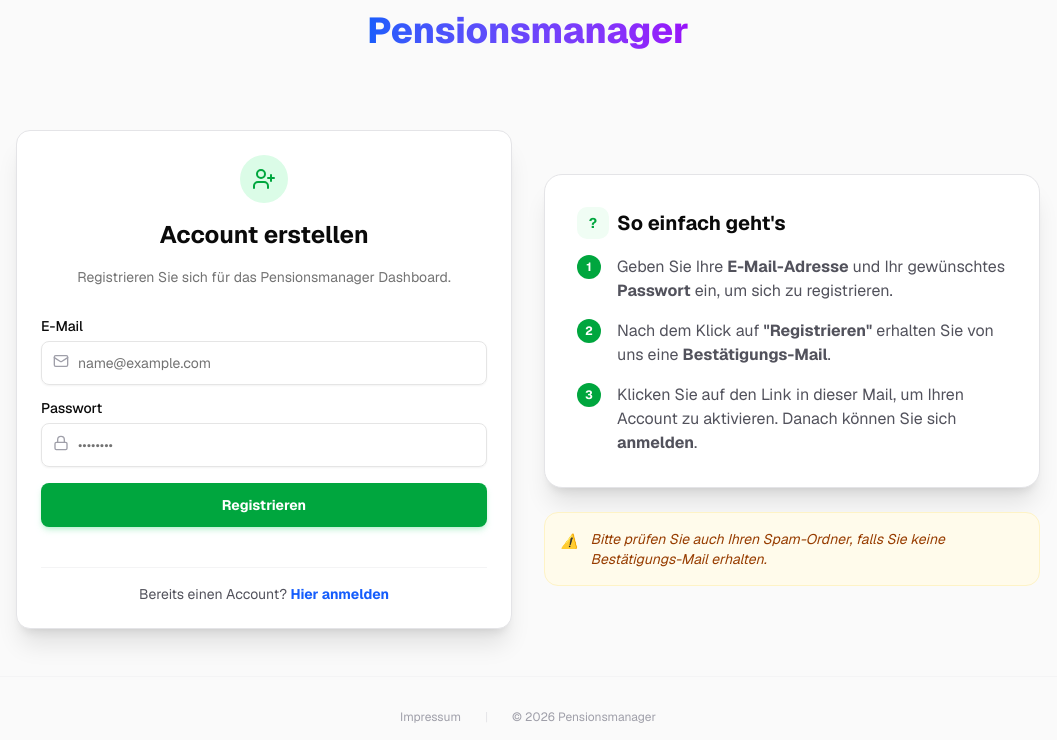
Test: RegisterPage › shows error message if user already exists (empty identities)
// Fill in the form
Type "test@example.com" into the field with placeholder "name@example.com" at [264, 363], box [41, 341, 487, 385]
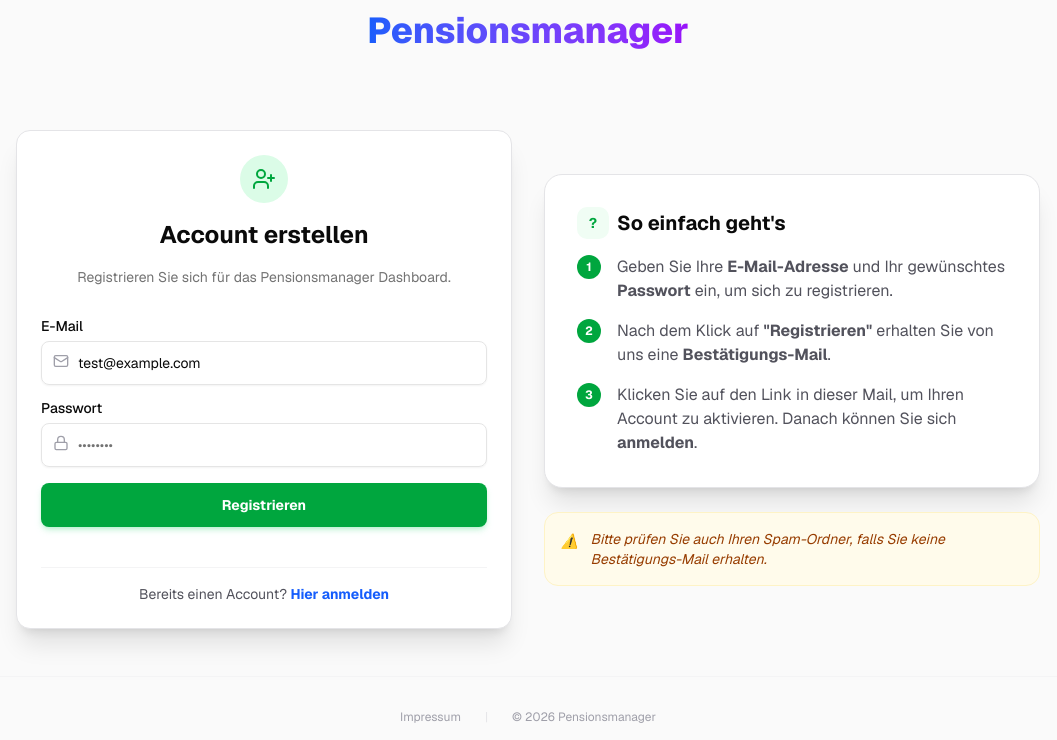
Type "password123" into the password field with placeholder "••••••••" at [264, 445], box [41, 423, 487, 467]
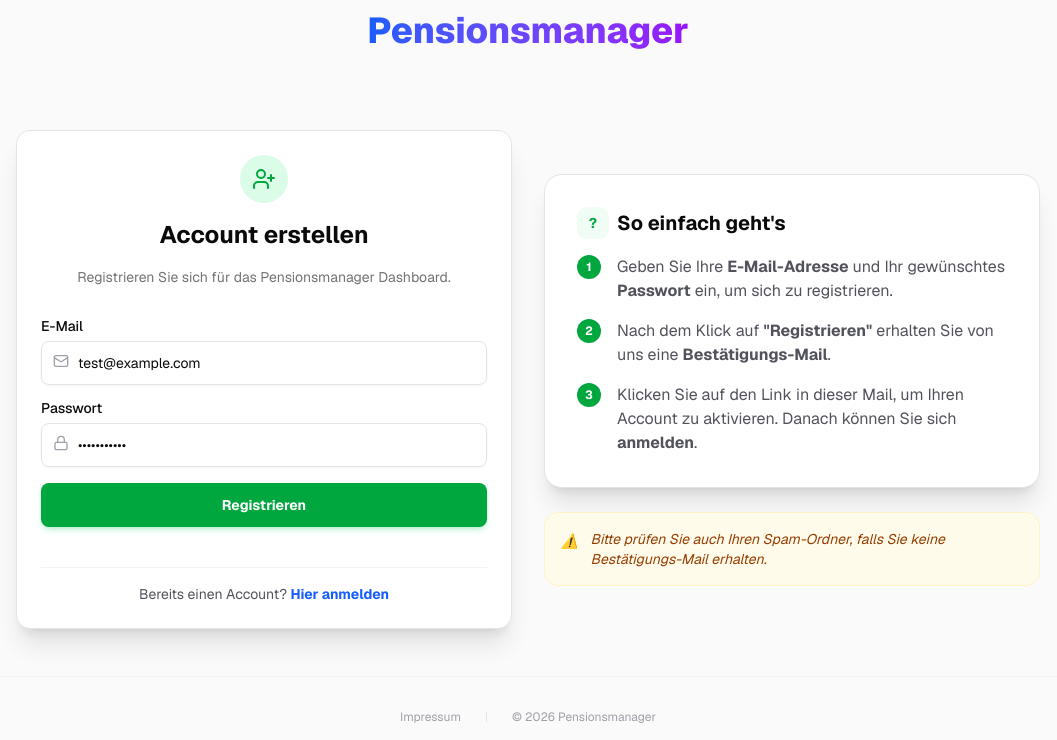
// Submit the form
Click the button "Registrieren" at [264, 505], box [41, 483, 487, 527]
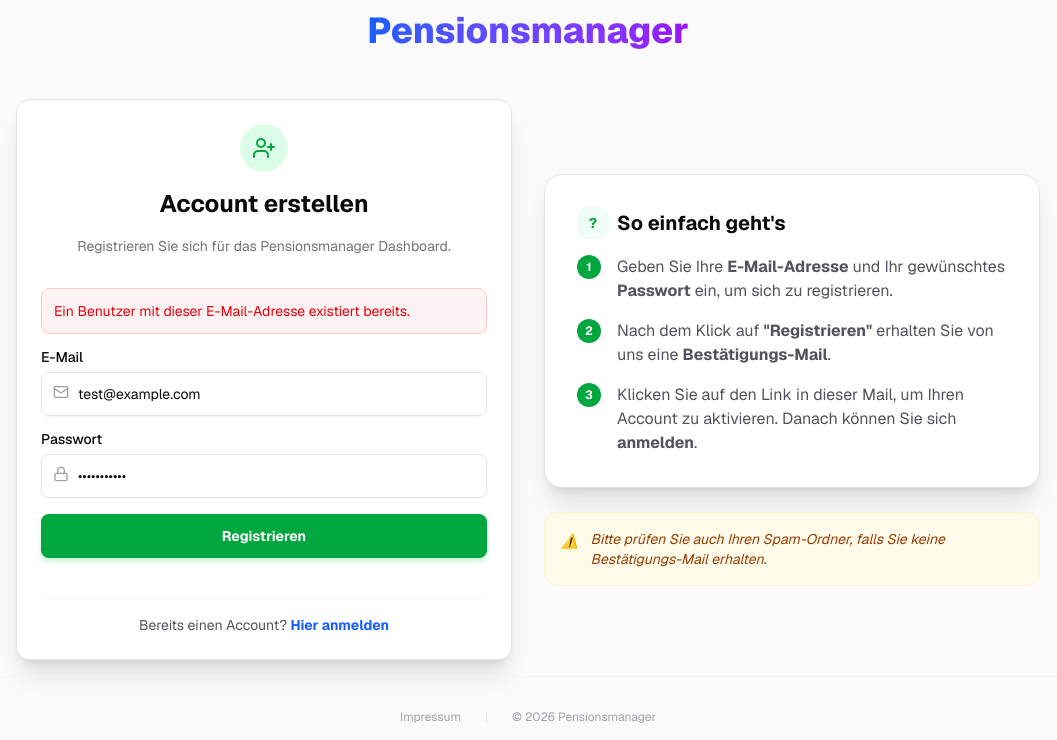
Now the text "Ein Benutzer mit dieser E-Mail-Adresse existiert bereits." is shown, box [41, 288, 487, 334]
